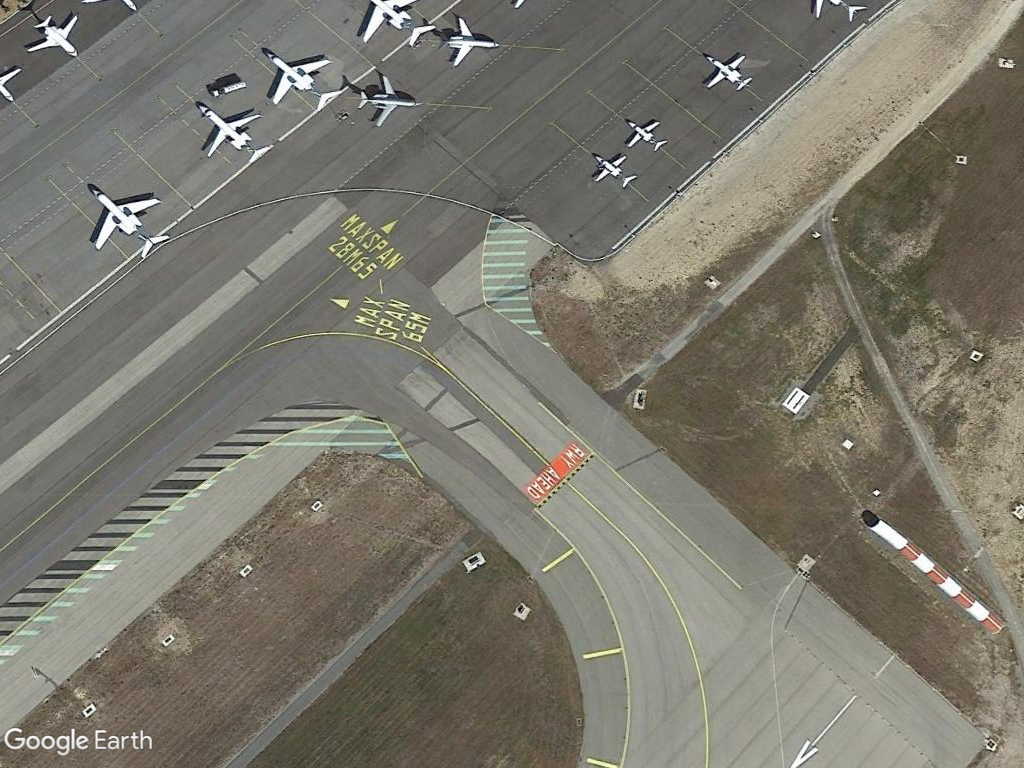chartered: (79, 178, 170, 262)
